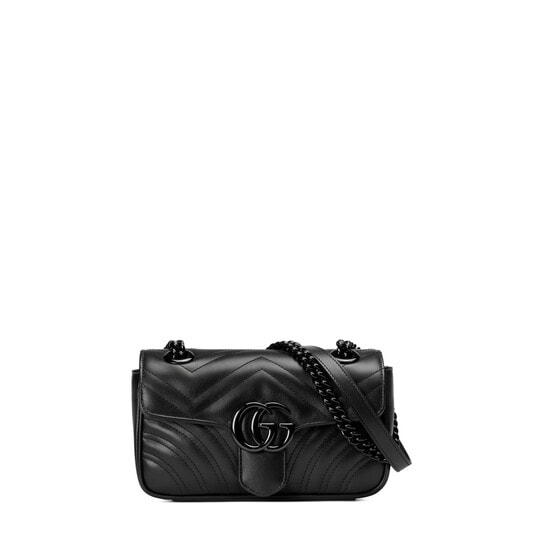Gucci: (137, 334, 405, 504), (229, 397, 302, 447)
